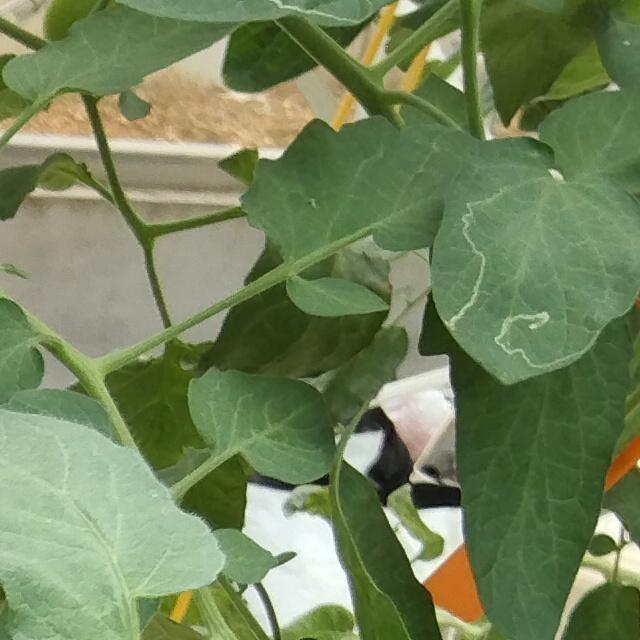Healthy: (0, 397, 229, 640), (0, 0, 249, 104), (186, 360, 338, 489), (286, 271, 393, 322)
Leaf_Miner: (425, 135, 640, 387)
